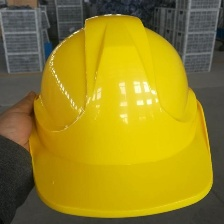helmet: (29, 14, 217, 222)
